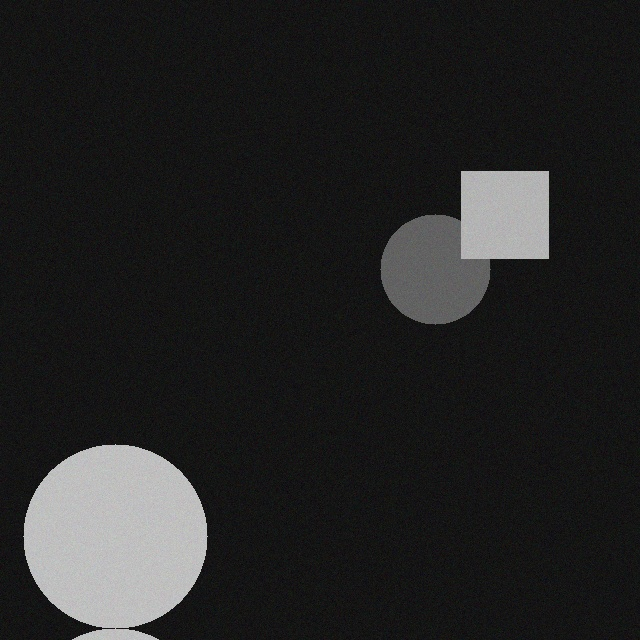circle: (27, 455, 211, 639), (384, 225, 494, 335)
square: (465, 182, 552, 269)
